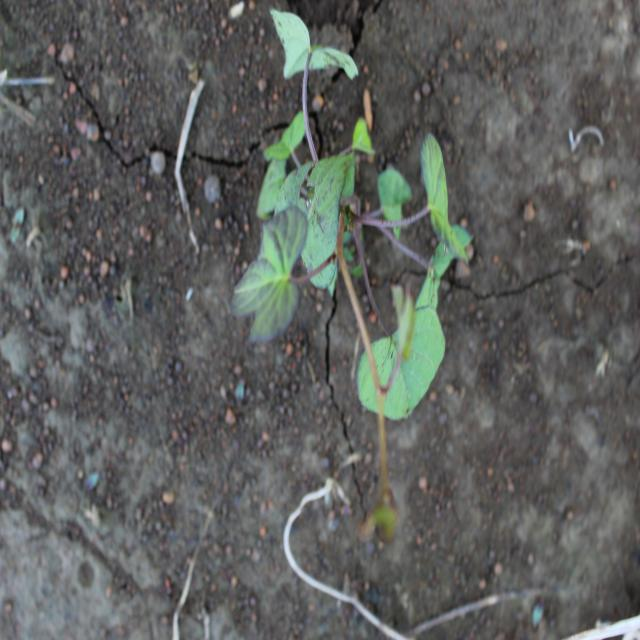MorningGlory: (229, 5, 476, 549)
